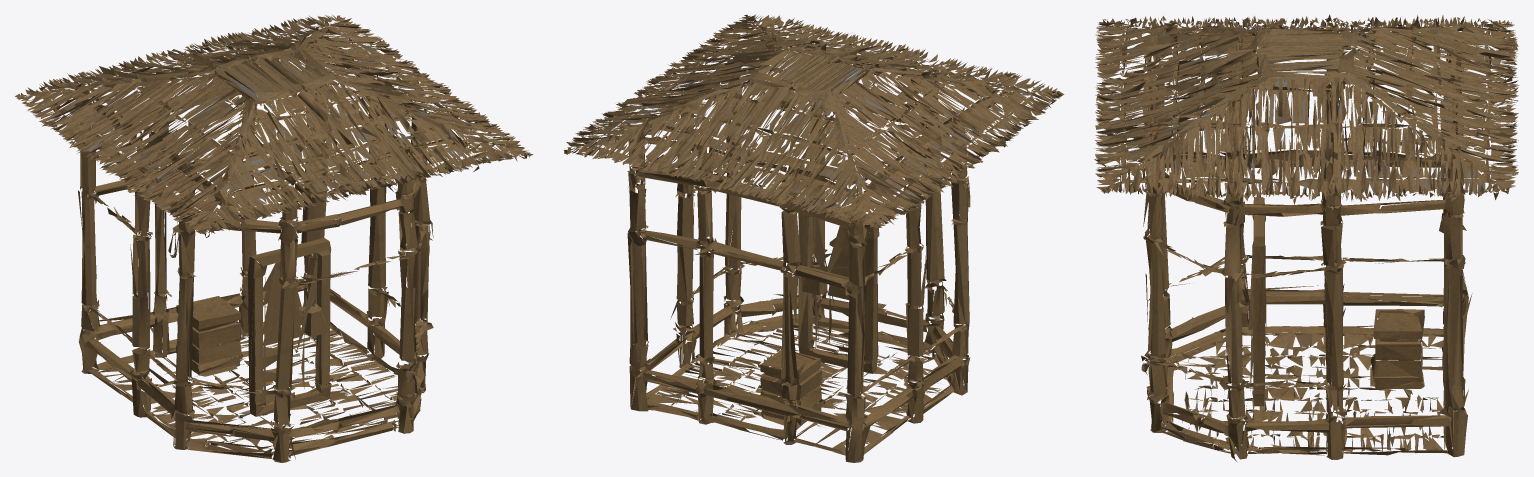
Rendered from cage.glb.
The picture shows the model from 3 angles, left to right: view 1: azimuth 30°, elevation 25°; view 2: azimuth 150°, elevation 25°; view 3: azimuth 270°, elevation 25°; orthographic projection. The views are drawn at different scales.
Visible parts, largest first — view 1: Mesh_0; view 2: Mesh_0; view 3: Mesh_0.
Boxes of the visible parts, x1,y1,x2,y2 form: Mesh_0: (15,15,533,462); Mesh_0: (564,14,1064,462); Mesh_0: (1094,14,1519,462).
Size of the model in its own units: 1.91 by 1.75 by 1.89.
Materials: 1 (1 with a texture image).
